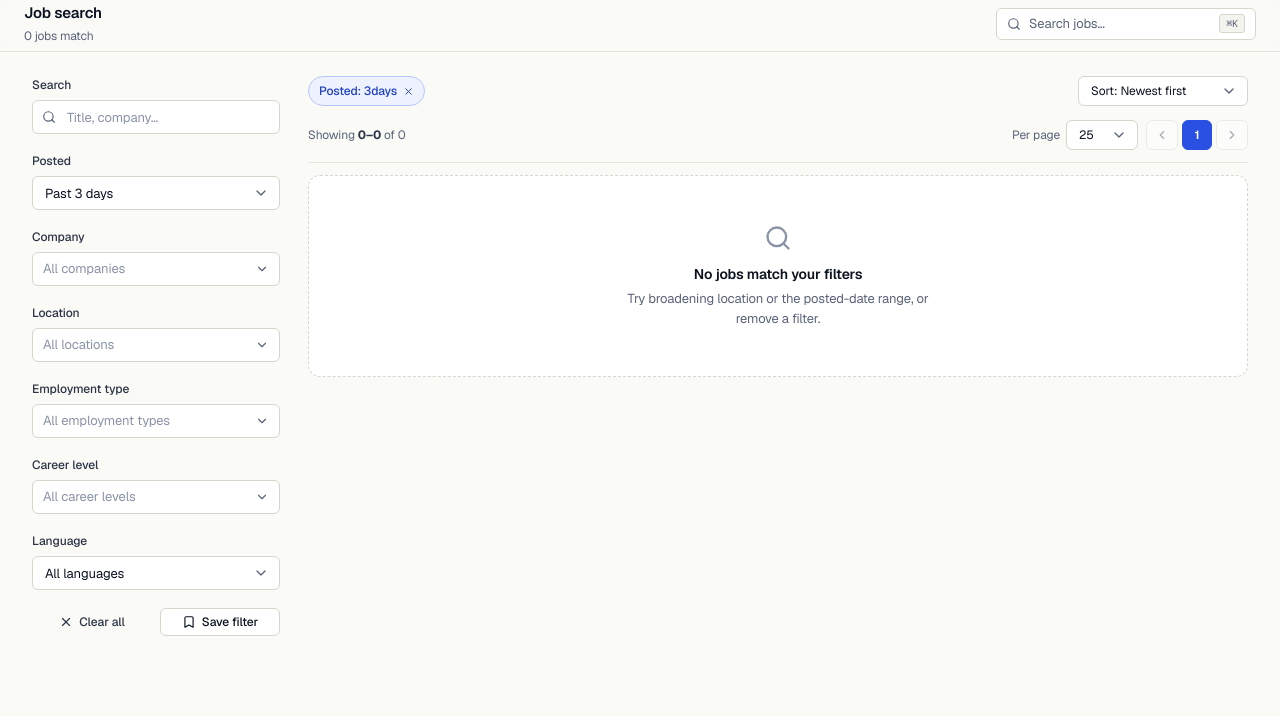
Test case: TC-523-J02 a fresh mount (simulated reload) never carries over a previous instance's preset
Type "designer" into the field with placeholder "Title, company…" at coordinates (156, 117), box [32,100,280,134]
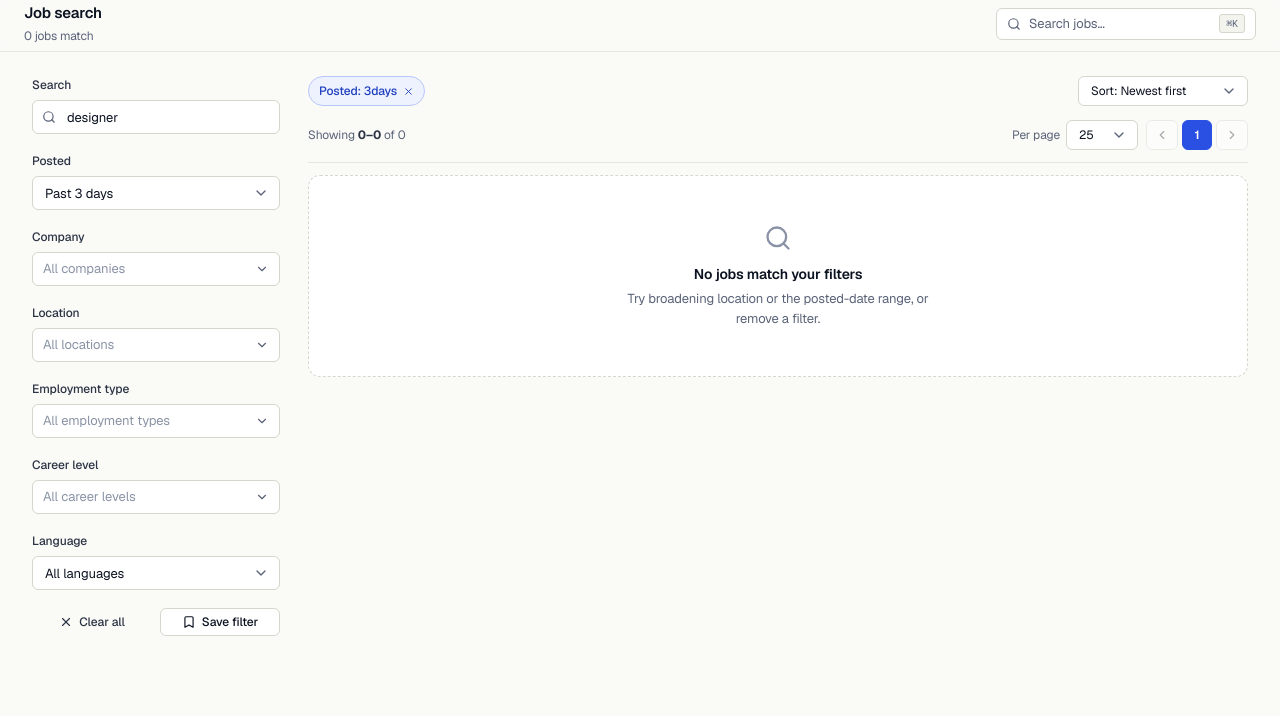
Click the button "Save filter" at coordinates (220, 622), box [160,608,280,636]
(page scrolled)
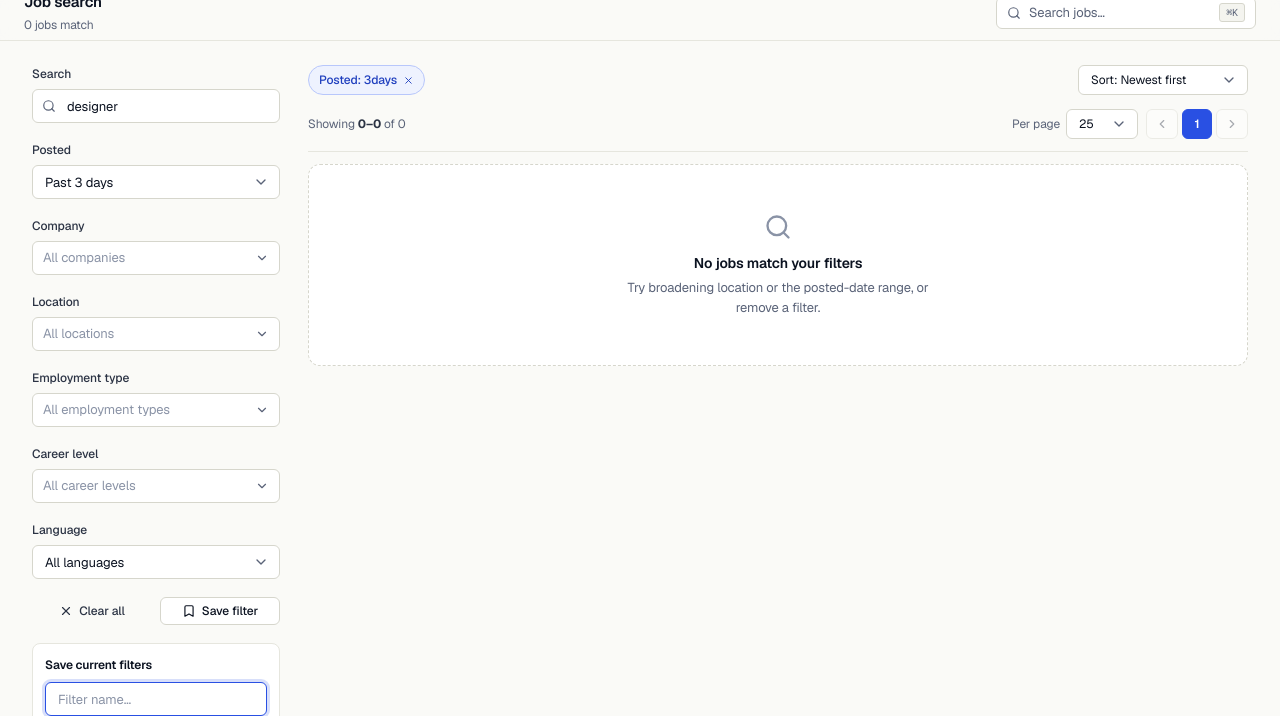
Type "Design roles" into the field with placeholder "Filter name…" at coordinates (156, 699), box [45,682,267,715]
(page scrolled)
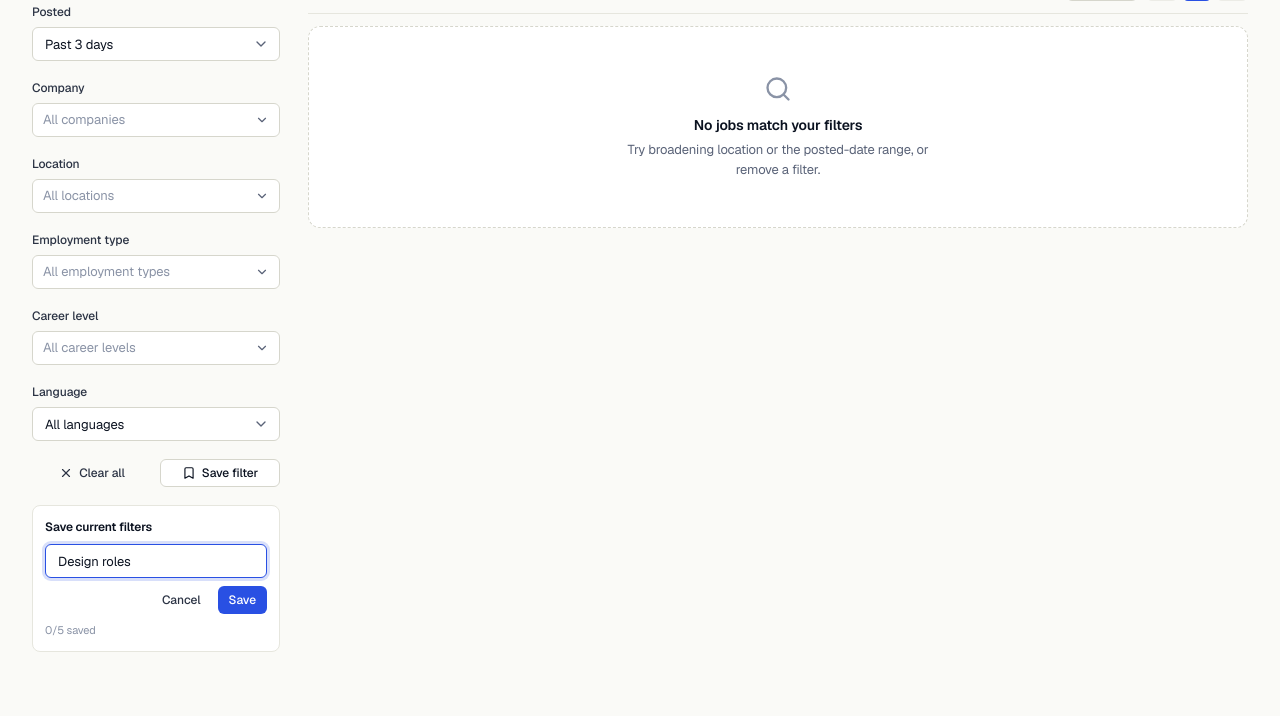
Click the button "Save" at coordinates (242, 600), box [218,586,267,614]
(page scrolled)
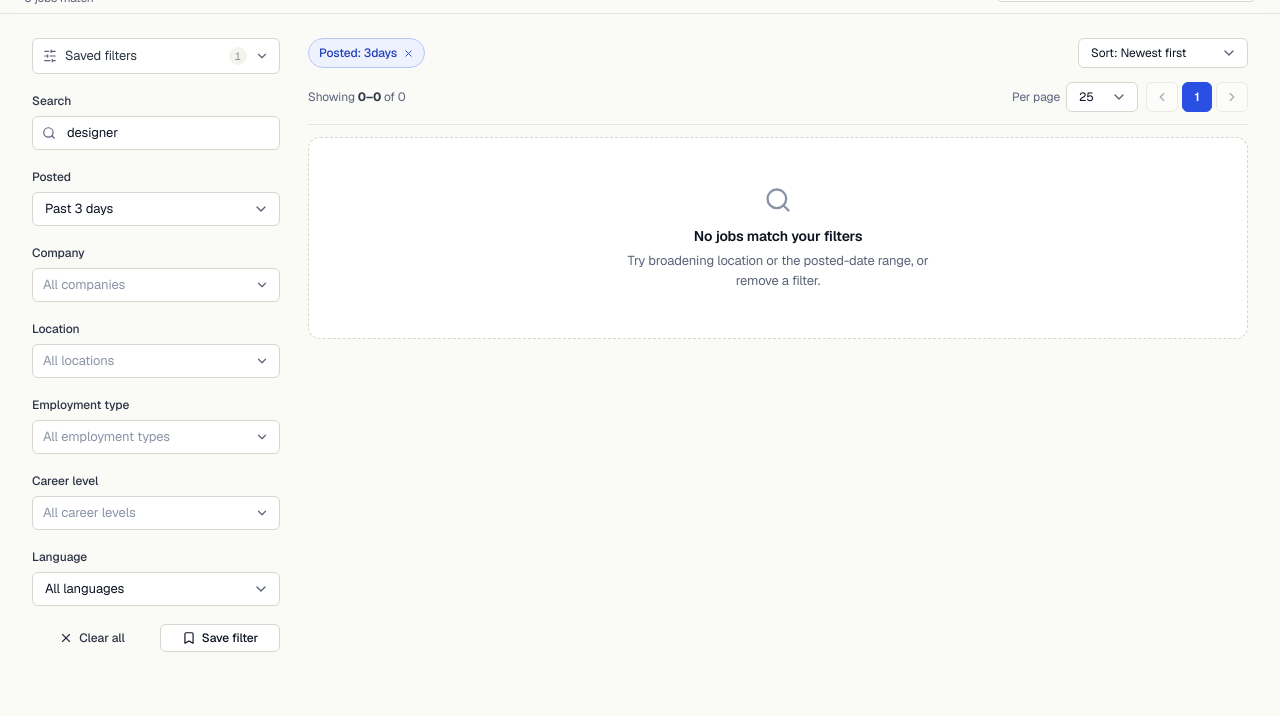
Expected: the text "Saved filters" is shown, [65,47,137,64]
